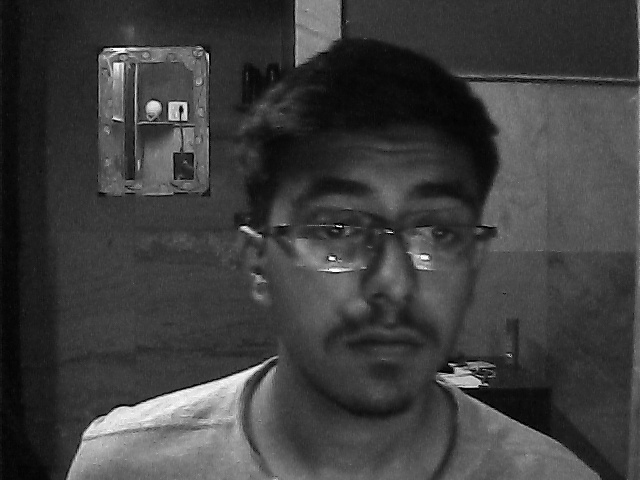nomask: (263, 106, 472, 410)
